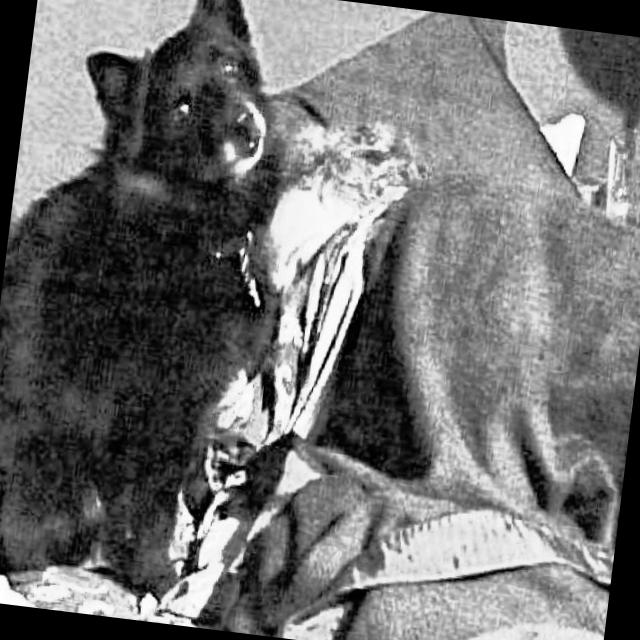Dog: (0, 0, 303, 609)
